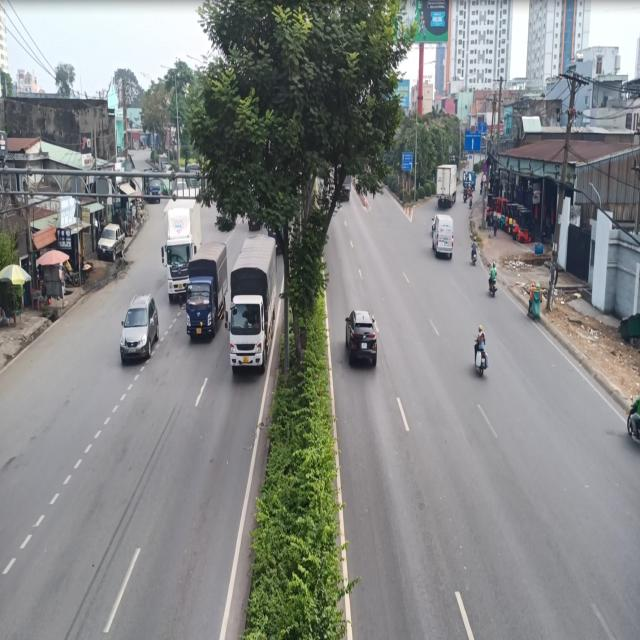car: (114, 291, 160, 373), (340, 307, 384, 372), (429, 207, 455, 272)
motor: (469, 320, 490, 379), (489, 259, 498, 301)
truck: (223, 232, 282, 376), (186, 238, 228, 347), (158, 190, 198, 298)
